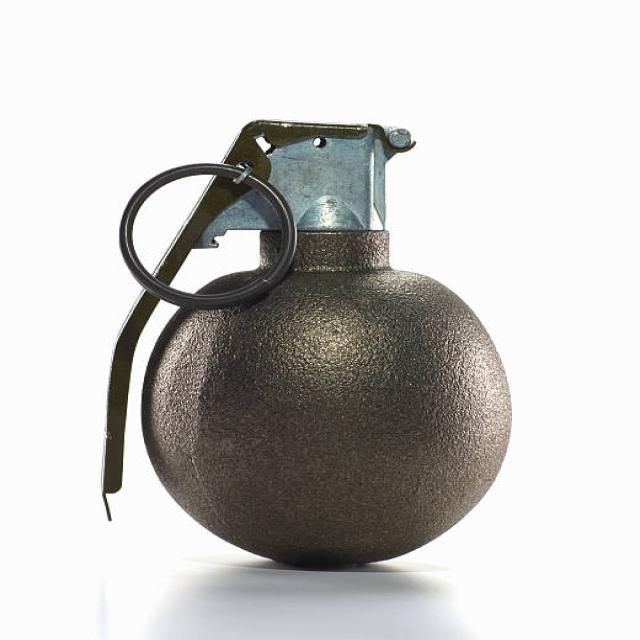grenade: (85, 115, 520, 575)
